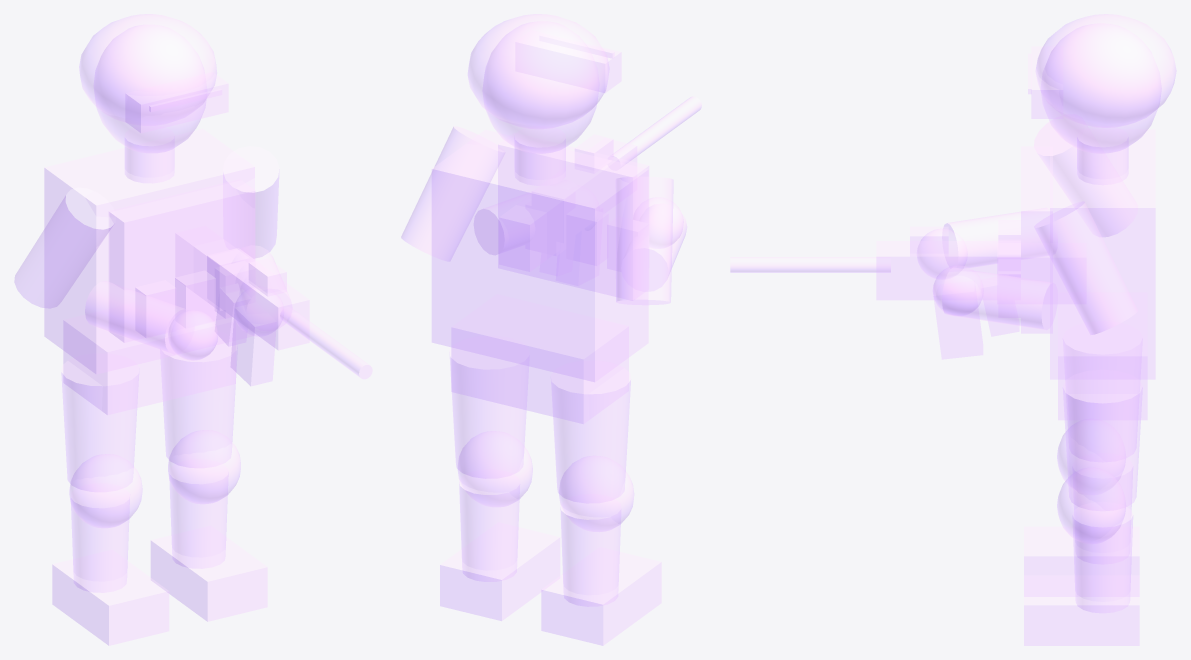
3 renders of one model, left to right at view 1: azimuth 30°, elevation 25°; view 2: azimuth 150°, elevation 25°; view 3: azimuth 270°, elevation 25°, orthographic. The views are drawn at different scales.
Parts seen in each view (by area): view 1: torso, vest, helmet, pelvis, head, lthigh, lboot, rboot, rthigh, left-upper-arm, receiver, lcalf (+18 smaller); view 2: torso, pelvis, helmet, head, vest, lthigh, rthigh, lboot, rboot, right-upper-arm, left-upper-arm, rcalf (+12 smaller); view 3: torso, helmet, head, rthigh, pelvis, rboot, receiver, right-upper-arm, rcalf, vest, lboot, right-forearm (+16 smaller).
Boxes of the visible parts, <box> form: torso: <box>44,129,254,374</box>; vest: <box>109,179,255,342</box>; helmet: <box>79,14,216,122</box>; pelvis: <box>63,315,235,414</box>; head: <box>94,25,205,152</box>; lthigh: <box>61,358,138,491</box>; lboot: <box>52,550,168,645</box>; rboot: <box>151,526,267,621</box>; rthigh: <box>161,343,237,467</box>; left-upper-arm: <box>14,187,115,308</box>; receiver: <box>207,248,309,349</box>; lcalf: <box>71,488,129,592</box>; torso: <box>432,130,648,381</box>; pelvis: <box>451,294,628,423</box>; helmet: <box>468,14,609,128</box>; head: <box>483,22,598,153</box>; vest: <box>498,133,648,296</box>; lthigh: <box>551,365,630,503</box>; rthigh: <box>449,347,528,478</box>; lboot: <box>541,547,661,645</box>; rboot: <box>440,522,559,620</box>; right-upper-arm: <box>401,126,504,260</box>; left-upper-arm: <box>616,177,673,304</box>; rcalf: <box>459,474,519,581</box>; torso: <box>1050,129,1155,379</box>; helmet: <box>1036,14,1176,127</box>; head: <box>1041,24,1161,153</box>; rthigh: <box>1063,379,1142,510</box>; pelvis: <box>1058,293,1147,419</box>; rboot: <box>1024,575,1139,645</box>; receiver: <box>876,241,1020,299</box>; right-upper-arm: <box>1034,201,1137,334</box>; rcalf: <box>1073,507,1132,612</box>; vest: <box>1021,146,1052,333</box>; lboot: <box>1024,527,1139,596</box>; right-forearm: <box>942,268,1057,329</box>.
Size of the model in its own units: 0.9387 by 2.01 by 1.39.
